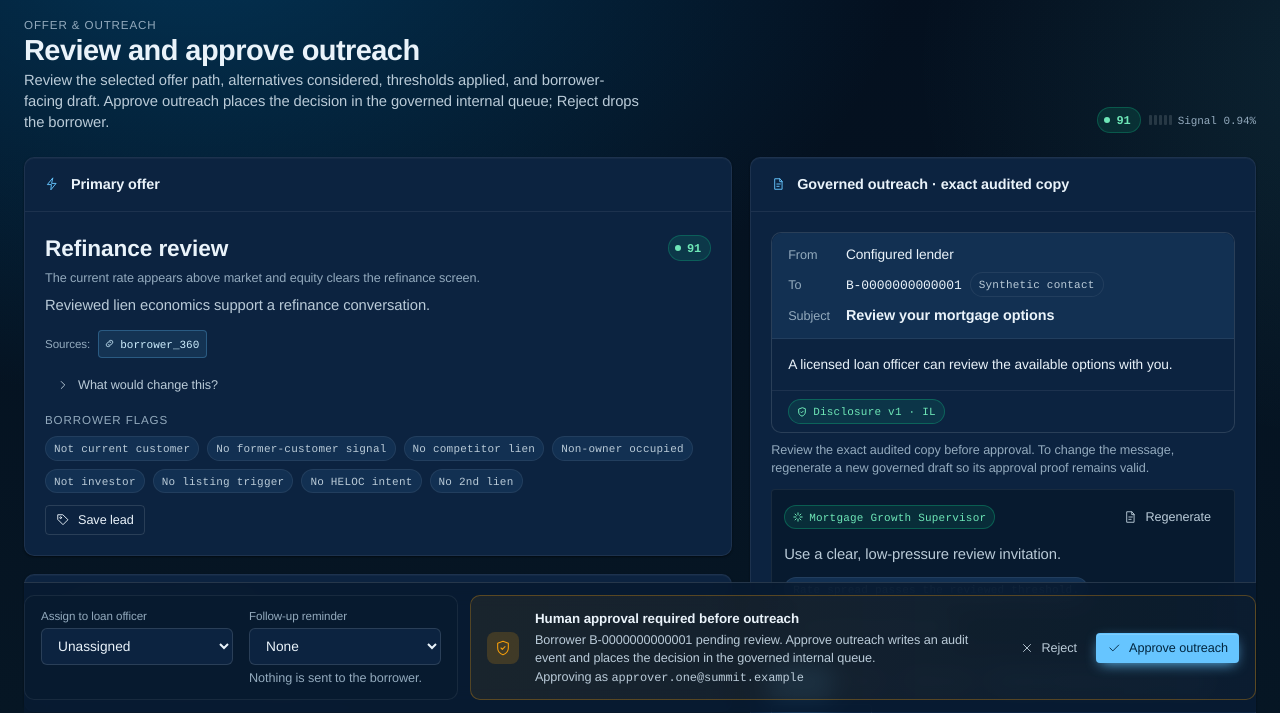
Test: OfferOrchestrator route behavior › keeps pending copy immutable and approves the exact governed draft
The image size is (1280, 713).
Expected: the element with test id "outreach-draft" reads "A licensed loan officer can review the available options with you.", top-left (788, 356), bottom-right (1173, 373)
Click the button "Approve outreach" at {"x": 1168, "y": 648}, box top-left (1096, 633), bottom-right (1239, 663)
(page scrolled)
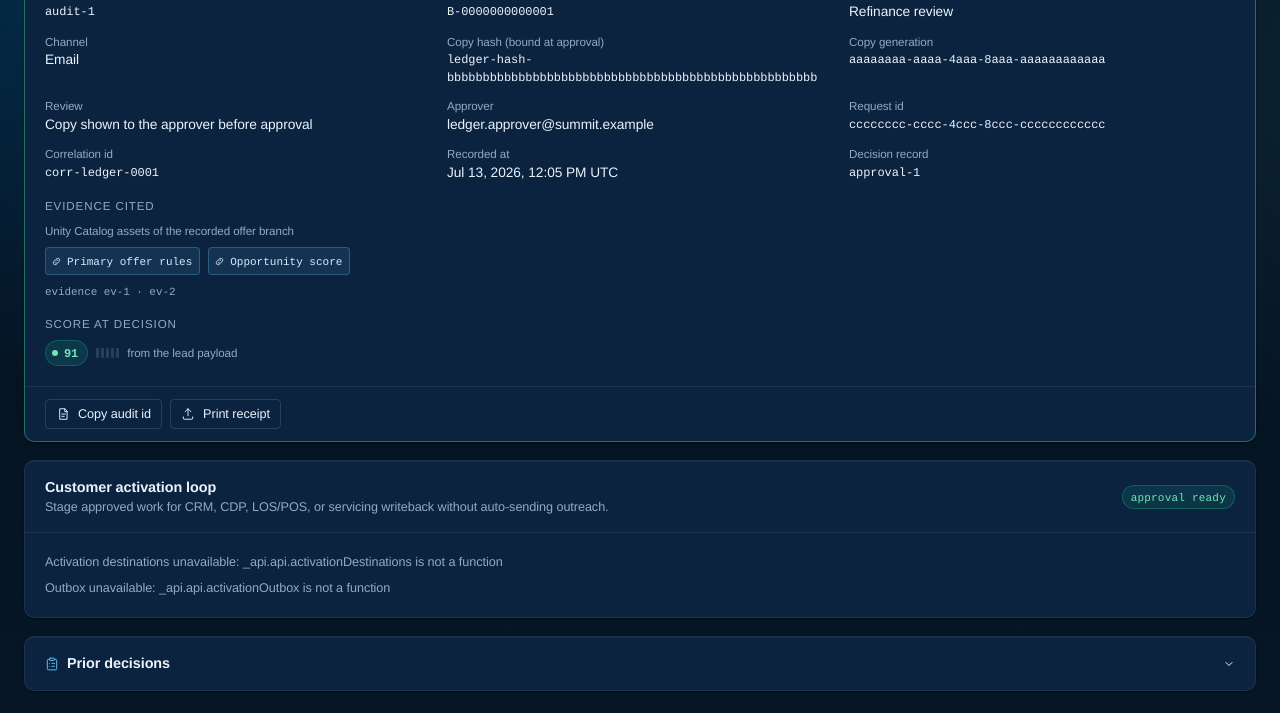
Result: the element with test id "decision-receipt" shows "ledger.approver@summit.example" at top-left (447, 116), bottom-right (654, 133)
Result: the element with test id "decision-receipt" shows "corr-ledger-0001" at top-left (45, 164), bottom-right (159, 180)
Result: the element with test id "decision-receipt" shows "approval-1" at top-left (849, 164), bottom-right (920, 180)
